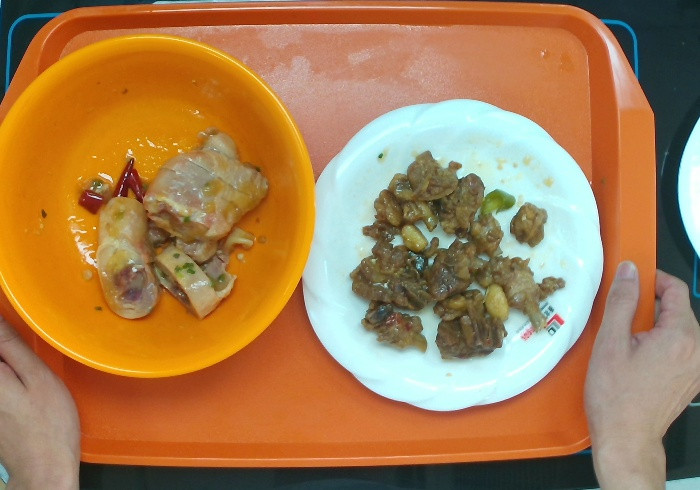ZNLD-Hua_Bian_Wan: (299, 97, 605, 412)
ZNLD-Ju_Se_Tang_Wan: (1, 32, 319, 379)
